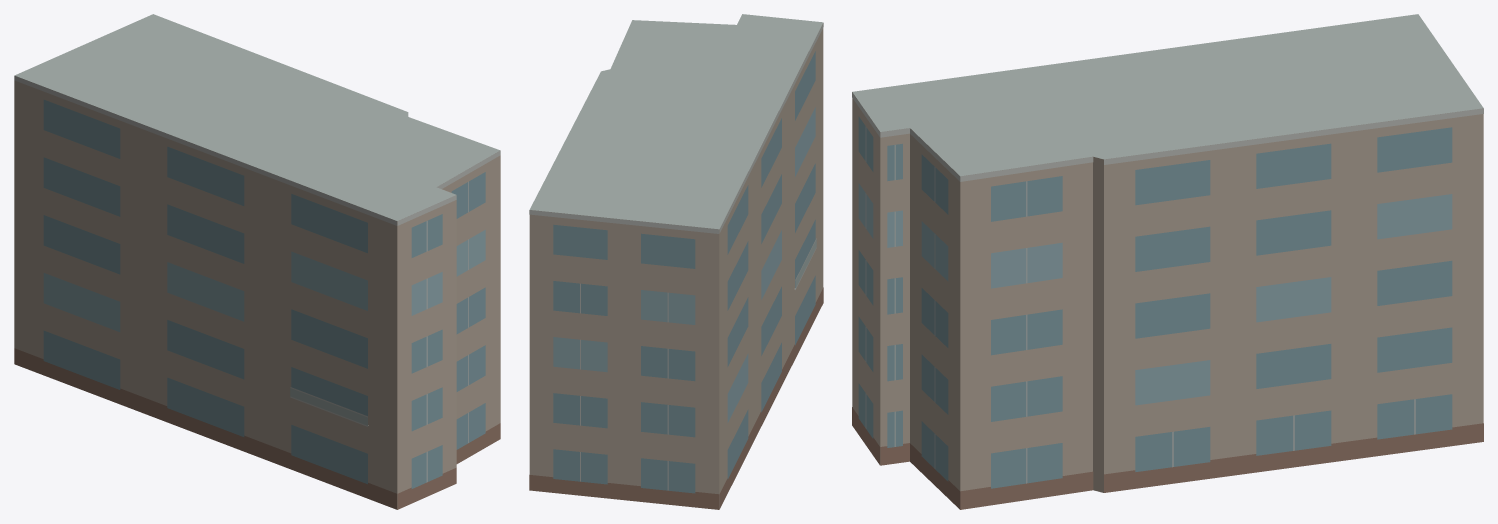
Rendered from survey-upis-32621363.glb.
3 views of the same model, side by side, from view 1: azimuth 30°, elevation 25°; view 2: azimuth 150°, elevation 25°; view 3: azimuth 270°, elevation 25° (orthographic). The views are drawn at different scales.
Parts seen in each view (by area): view 1: survey-upis-32621363.tmp; view 2: survey-upis-32621363.tmp; view 3: survey-upis-32621363.tmp.
Boxes of the visible parts, bbox=[...] form: survey-upis-32621363.tmp: bbox=[14, 14, 500, 509]; survey-upis-32621363.tmp: bbox=[529, 14, 823, 509]; survey-upis-32621363.tmp: bbox=[852, 14, 1483, 509].
Size of the model in its own units: 15.07 by 14.43 by 24.77.
